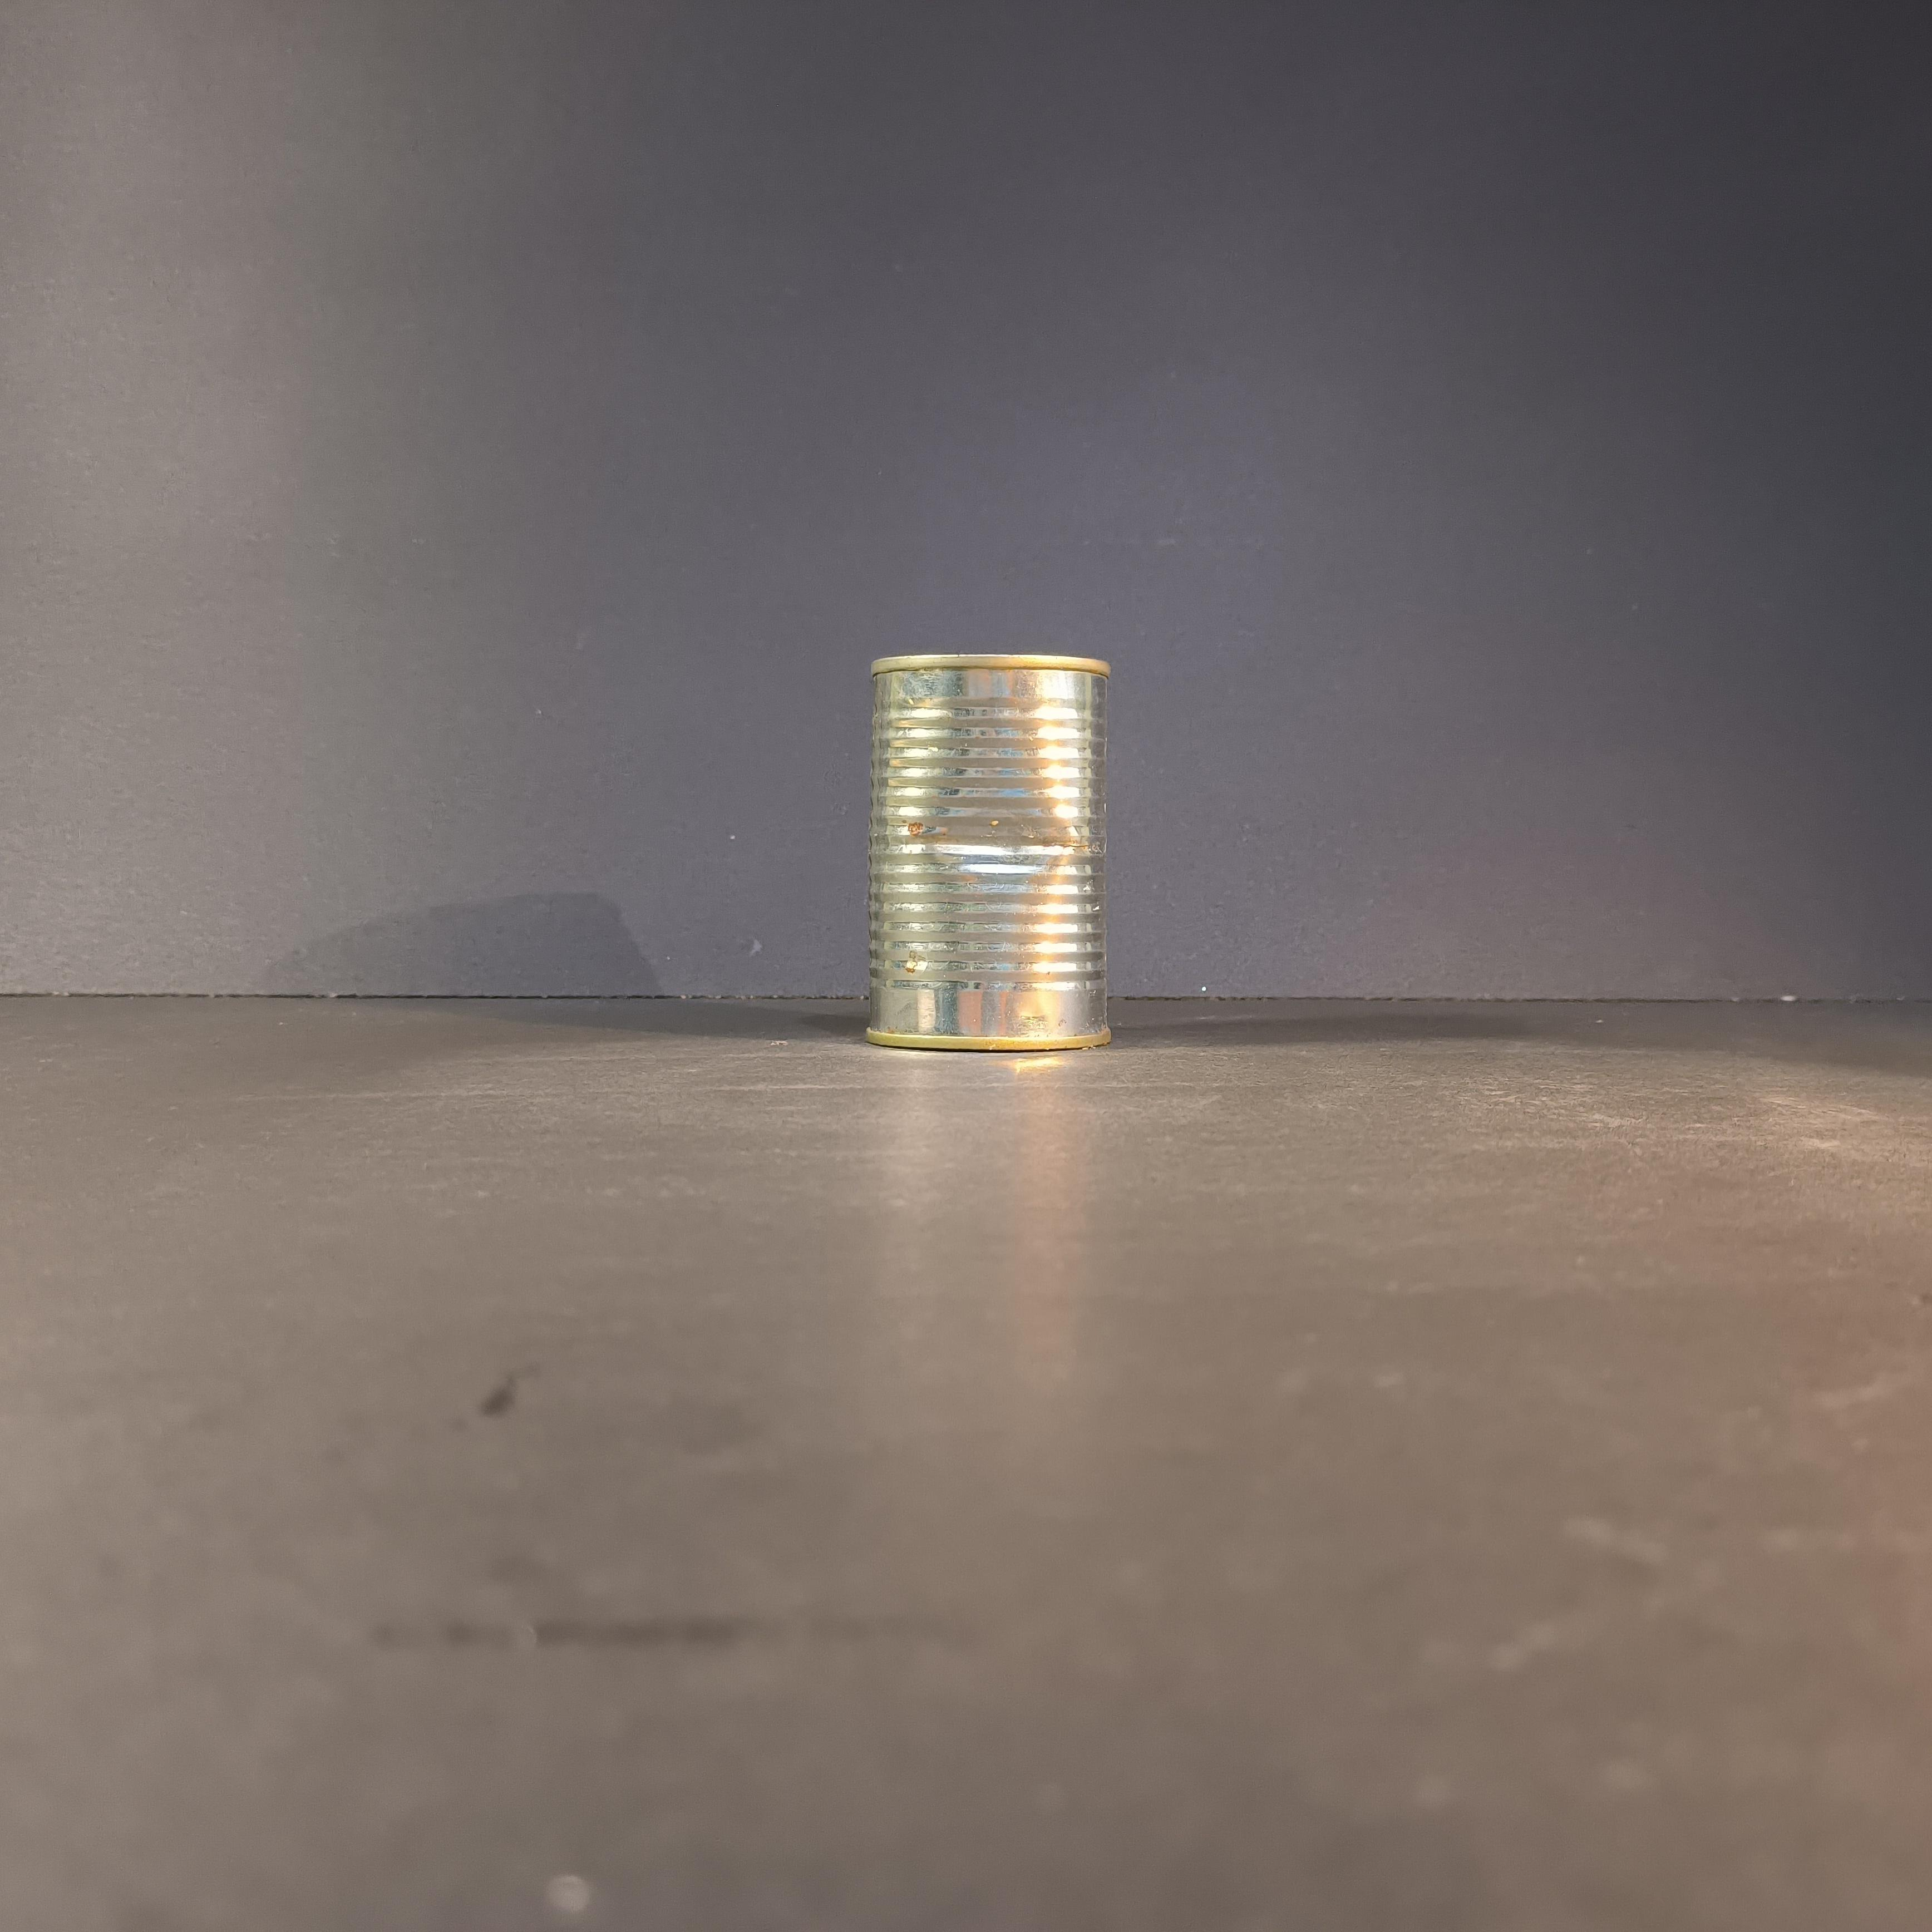Dented: (840, 626, 1149, 1071)
